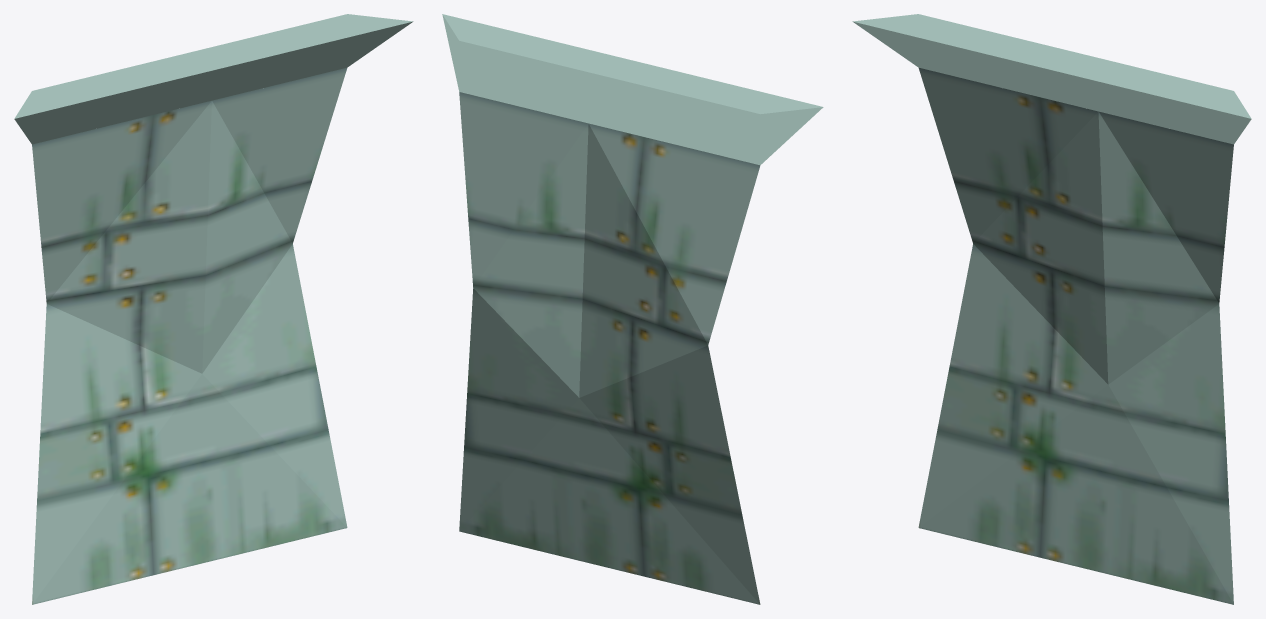
The model's file is W_A1_x [Türkis]_1677.glb.
The picture shows the model from 3 angles, left to right: view 1: azimuth 30°, elevation 25°; view 2: azimuth 150°, elevation 25°; view 3: azimuth 330°, elevation 25°; orthographic projection. The views are drawn at different scales.
Visible parts, largest first — view 1: polySurfaceShape1201, polySurfaceShape1203; view 2: polySurfaceShape1201, polySurfaceShape1203; view 3: polySurfaceShape1201, polySurfaceShape1203.
Part boxes in pixels (x1=…): polySurfaceShape1201: x1=32, y1=68, x2=347, y2=604; polySurfaceShape1203: x1=14, y1=14, x2=413, y2=144; polySurfaceShape1201: x1=459, y1=92, x2=760, y2=604; polySurfaceShape1203: x1=442, y1=14, x2=823, y2=165; polySurfaceShape1201: x1=918, y1=68, x2=1233, y2=604; polySurfaceShape1203: x1=852, y1=14, x2=1251, y2=144.
Size of the model in its own units: 0.3166 by 0.3891 by 0.0607.
2 materials, 2 textured.
